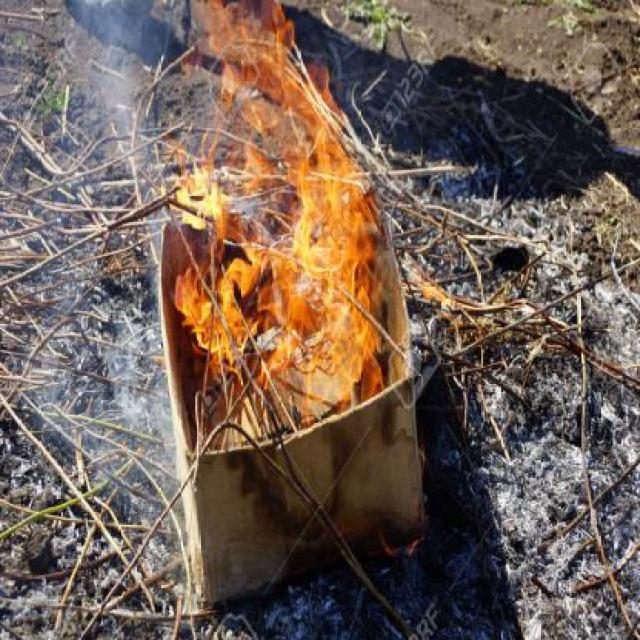box: (152, 130, 445, 616)
